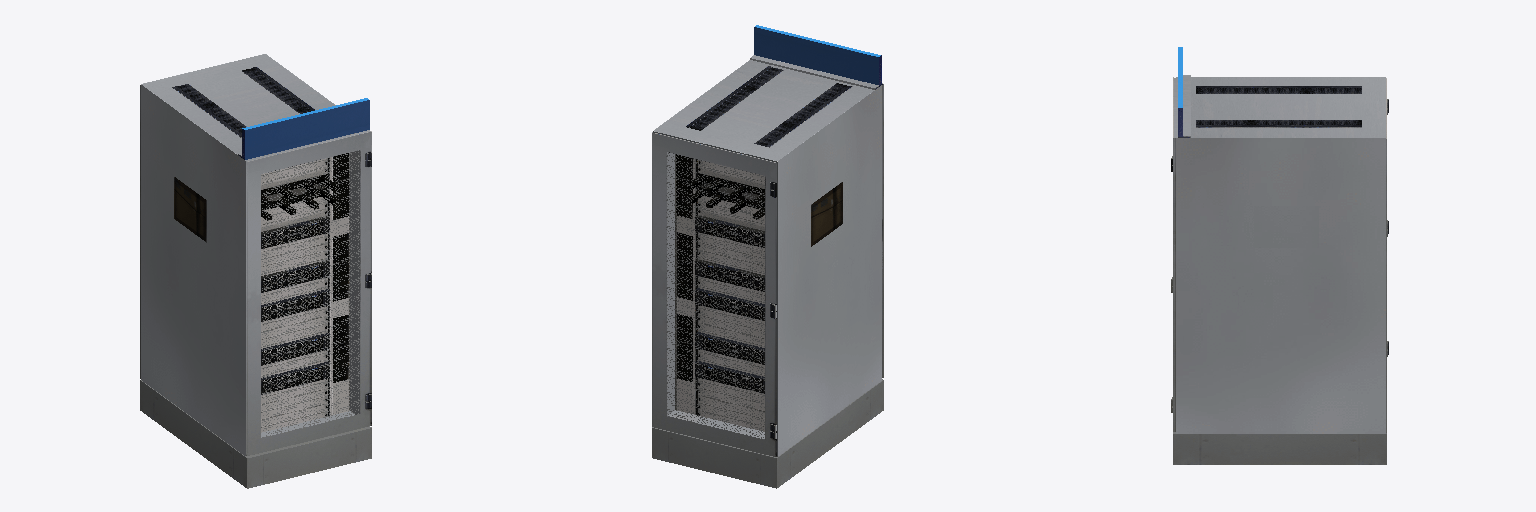
3 views of the same model, side by side, from view 1: azimuth 30°, elevation 25°; view 2: azimuth 150°, elevation 25°; view 3: azimuth 270°, elevation 25° (orthographic).
Visible parts, largest first — view 1: SET8A1; view 2: SET8A1; view 3: SET8A1.
Boxes of the visible parts, <box> form: SET8A1: <box>140,54,371,488</box>; SET8A1: <box>652,25,883,488</box>; SET8A1: <box>1171,47,1388,464</box>.
Size of the model in its own units: 0.8 by 2.18 by 1.21.
Materials: 1 (1 with a texture image).